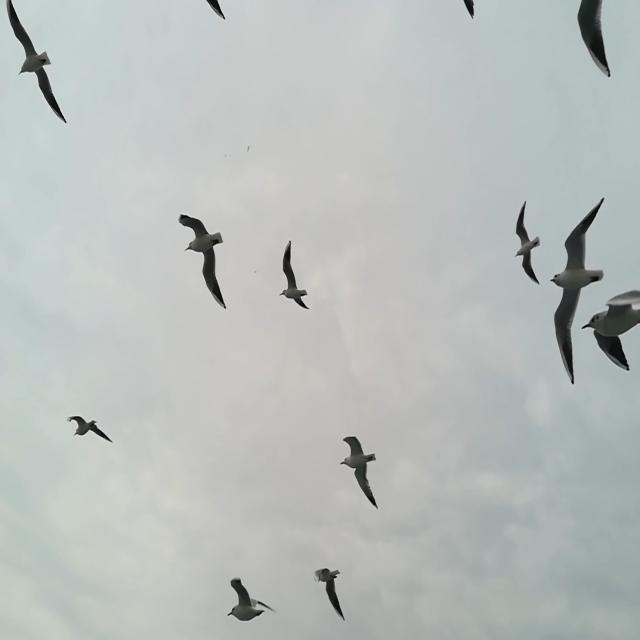bird: (549, 198, 605, 386), (5, 0, 67, 126), (581, 288, 640, 372), (178, 215, 226, 310), (339, 434, 378, 510), (576, 0, 612, 80), (513, 198, 542, 286), (226, 576, 280, 622), (278, 243, 310, 311), (314, 567, 346, 622), (66, 415, 113, 443), (207, 0, 226, 20), (463, 0, 475, 19), (246, 144, 251, 153)
